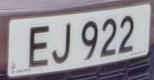2: (98, 15, 117, 58), (118, 11, 135, 54)
9: (79, 16, 100, 66)
E: (27, 20, 51, 73)
J: (50, 20, 74, 68)
